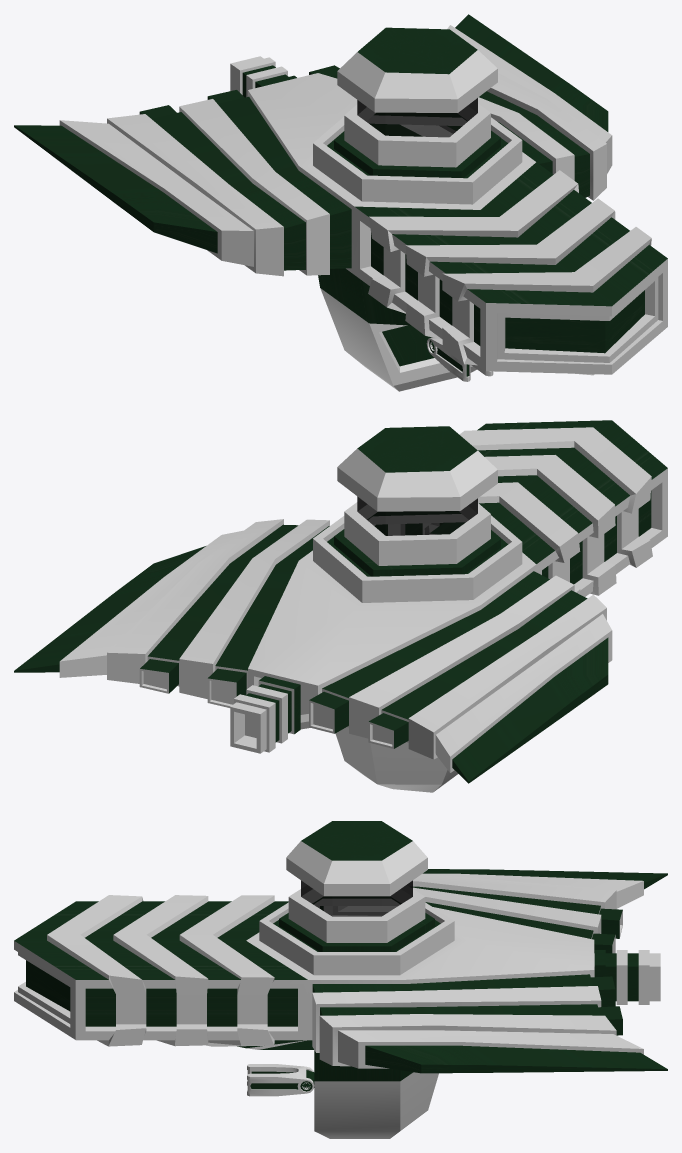
File: DBD.fbx
The picture shows the model from 3 angles, top to bottom: view 1: azimuth 30°, elevation 25°; view 2: azimuth 150°, elevation 25°; view 3: azimuth 270°, elevation 25°; orthographic projection. The views are drawn at different scales.
Parts seen in each view (by area): view 1: DBD; view 2: DBD; view 3: DBD.
Boxes of the visible parts, x1,y1,x2,y2 form: DBD: [14, 14, 667, 391]; DBD: [14, 420, 667, 792]; DBD: [14, 821, 667, 1138].
Size of the model in its own units: 6.01 by 4.06 by 8.49.
